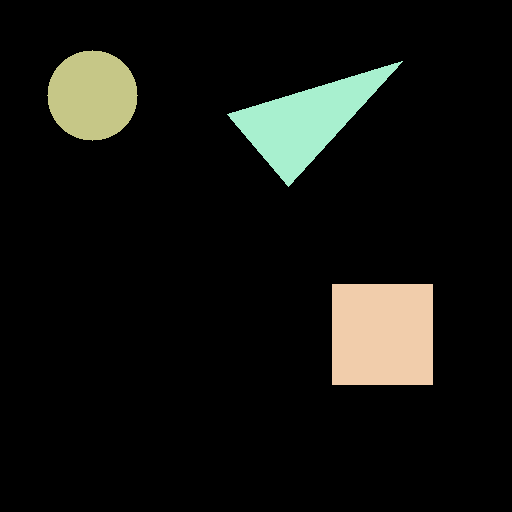circle: (47, 50, 137, 140)
square: (332, 284, 432, 384)
triangle: (227, 61, 402, 186)
